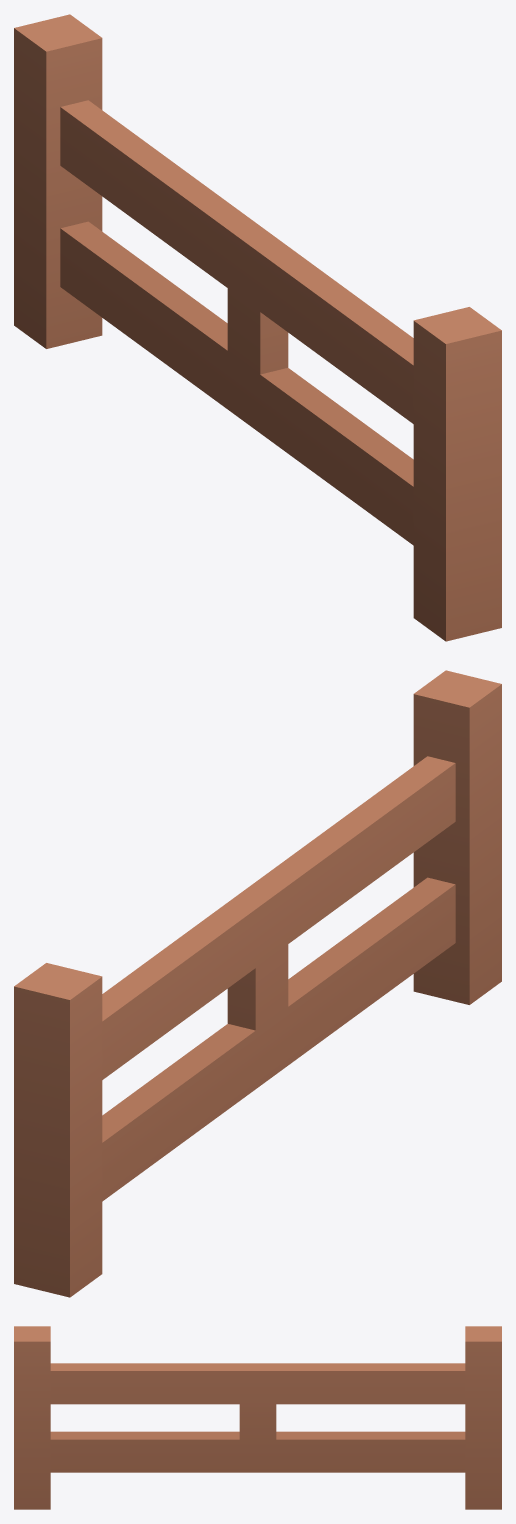
The model's file is fence.glb.
The picture shows the model from 3 angles, top to bottom: view 1: azimuth 30°, elevation 25°; view 2: azimuth 150°, elevation 25°; view 3: azimuth 270°, elevation 25°; orthographic projection. The views are drawn at different scales.
Parts seen in each view (by area): view 1: fence; view 2: fence; view 3: fence.
Part boxes in pixels (x1=…): fence: x1=14, y1=14, x2=501, y2=641; fence: x1=14, y1=670, x2=501, y2=1297; fence: x1=14, y1=1326, x2=501, y2=1509.
Bounding box in the file's own units: 0.075 × 0.38 × 1.
1 material, 1 textured.
